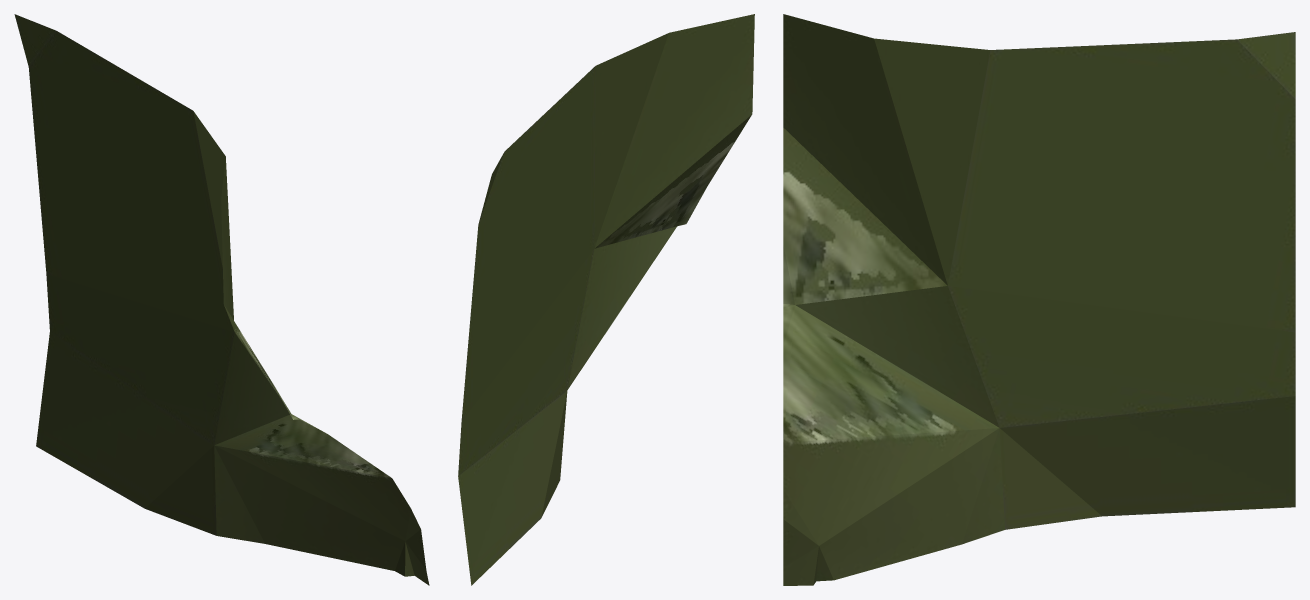
The picture shows the model from 3 angles, left to right: view 1: azimuth 30°, elevation 25°; view 2: azimuth 150°, elevation 25°; view 3: azimuth 270°, elevation 25°; orthographic projection. The views are drawn at different scales.
Bounding box in the file's own units: 1.47 × 2.95 × 2.95.
Materials: 3 (3 with a texture image).
